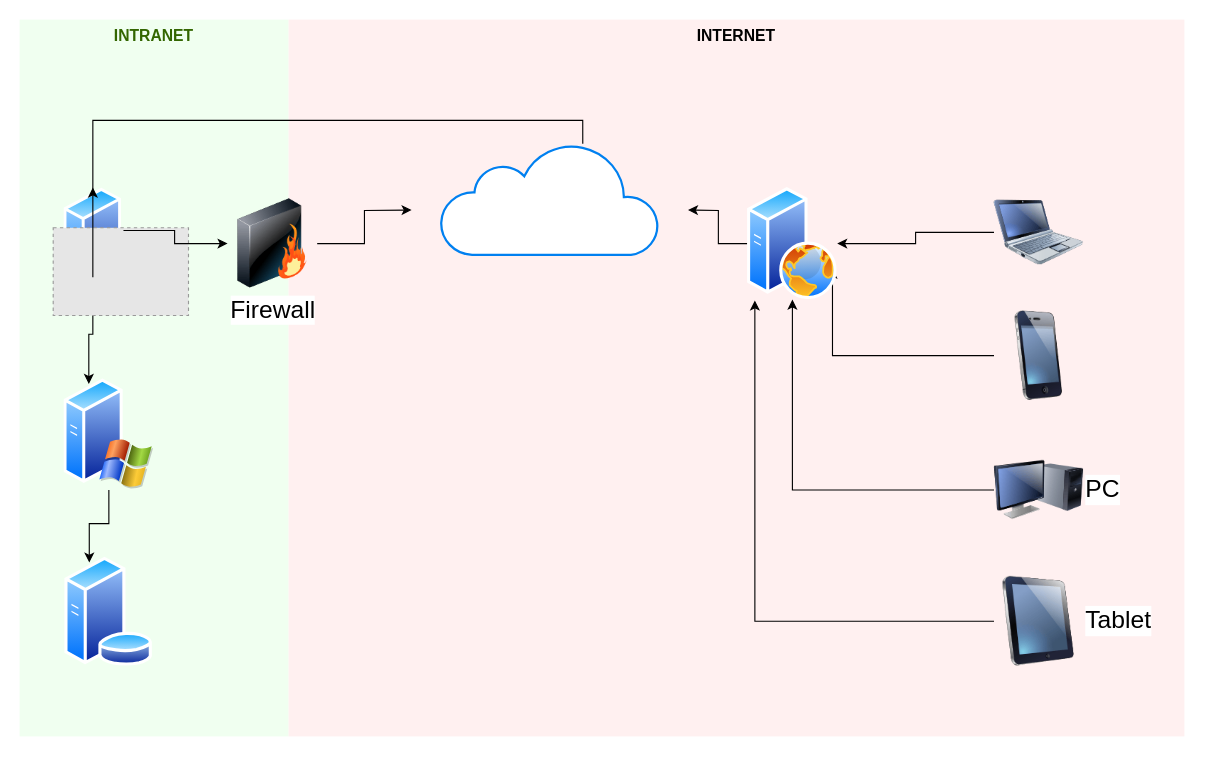
The diagram is 1214 pixels wide and 766 high, and some of its shapes have lost their labels. Grey dashed boxes stand in for pictures. Each missing label, with the box of its shape:
DMZ: (439, 141, 660, 255)
Laptop: (993, 187, 1083, 277)
Mobile: (993, 310, 1083, 400)
